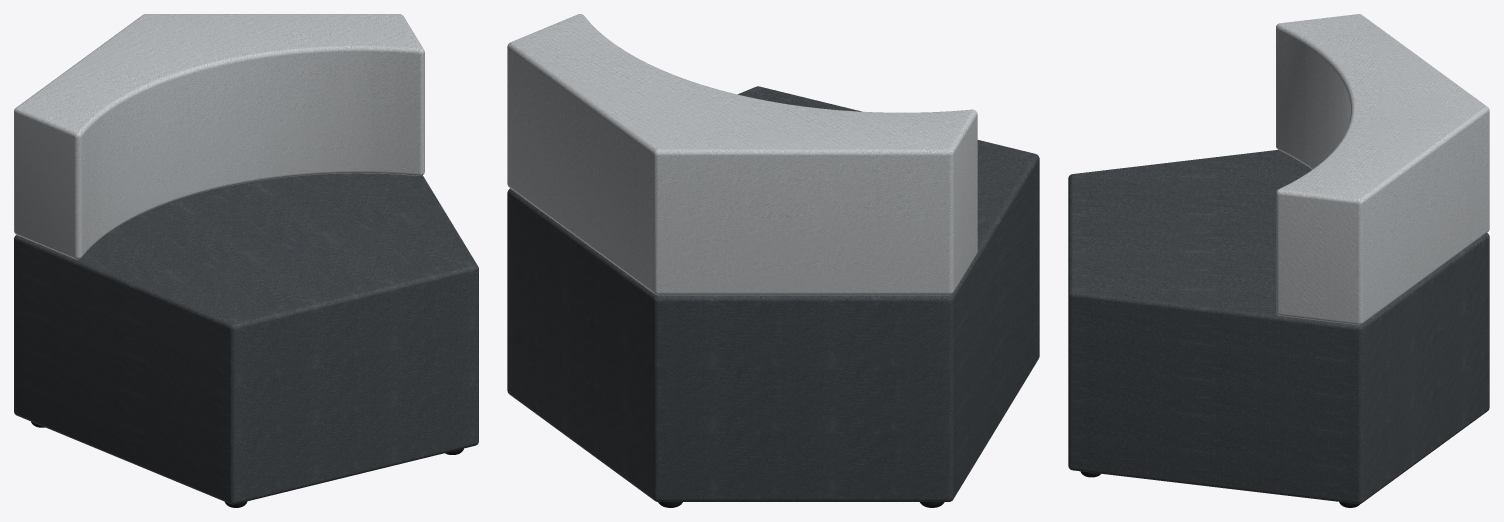
Rendered from Pent seating.FBX.
3 renders of one model, left to right at view 1: azimuth 30°, elevation 25°; view 2: azimuth 150°, elevation 25°; view 3: azimuth 270°, elevation 25°, orthographic. The views are drawn at different scales.
Visible parts, largest first — view 1: 143-8-AS-034, Object001; view 2: 143-8-AS-034, Object001; view 3: 143-8-AS-034, Object001.
Boxes of the visible parts, x1,y1,x2,y2 form: 143-8-AS-034: [14, 173, 478, 504]; Object001: [14, 14, 424, 259]; 143-8-AS-034: [507, 86, 1039, 501]; Object001: [507, 14, 977, 295]; 143-8-AS-034: [1068, 150, 1489, 504]; Object001: [1276, 14, 1489, 325].
Bounding box in the file's own units: 958 × 750 × 907.
3 materials, 2 textured.
